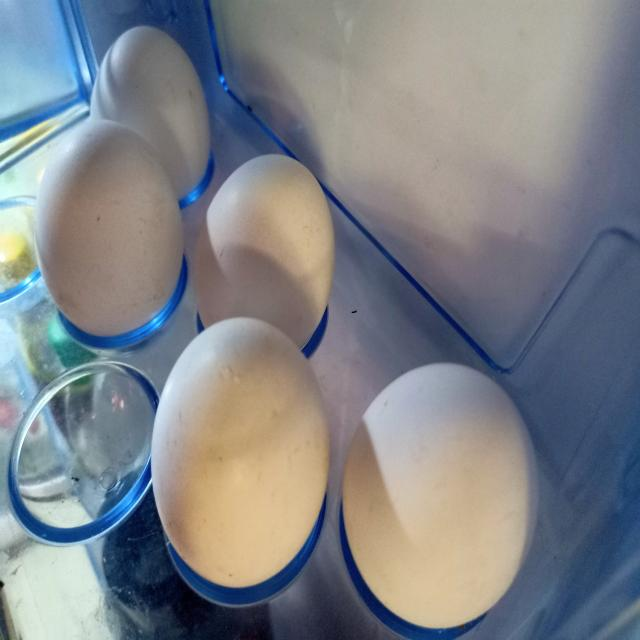Egg: (340, 361, 546, 640), (145, 316, 341, 592), (28, 115, 188, 343), (184, 156, 336, 358), (89, 26, 214, 205)
